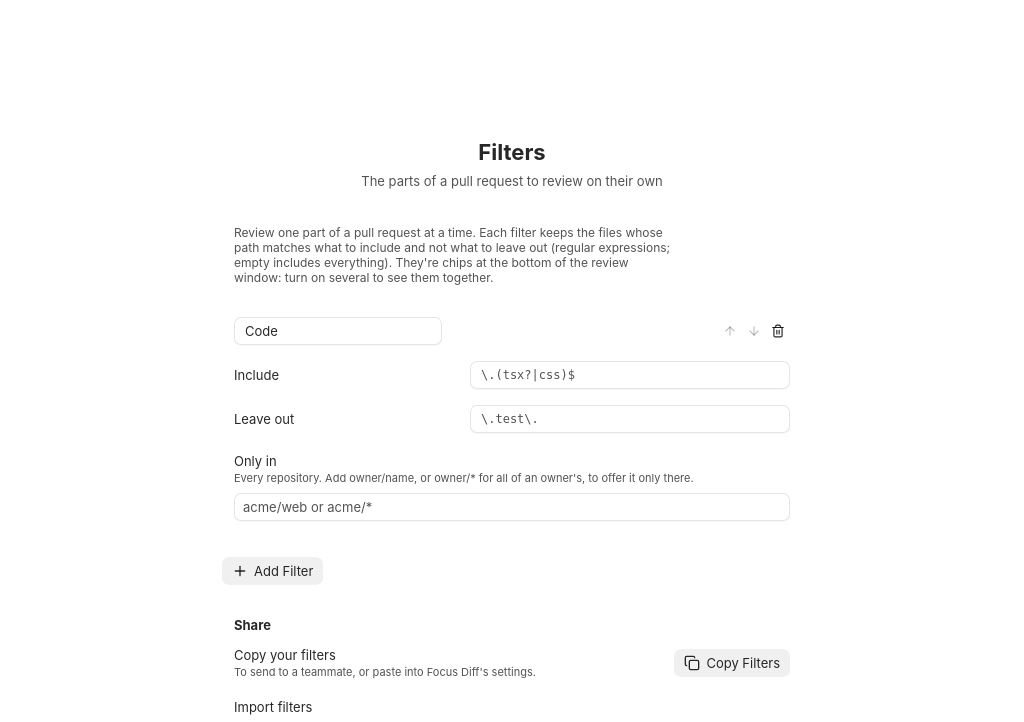
Sharing filters › says when the clipboard can't be reached
This screenshot has width=1024, height=722.
Click the button "Copy Filters": (732, 662) [674, 648, 790, 676]
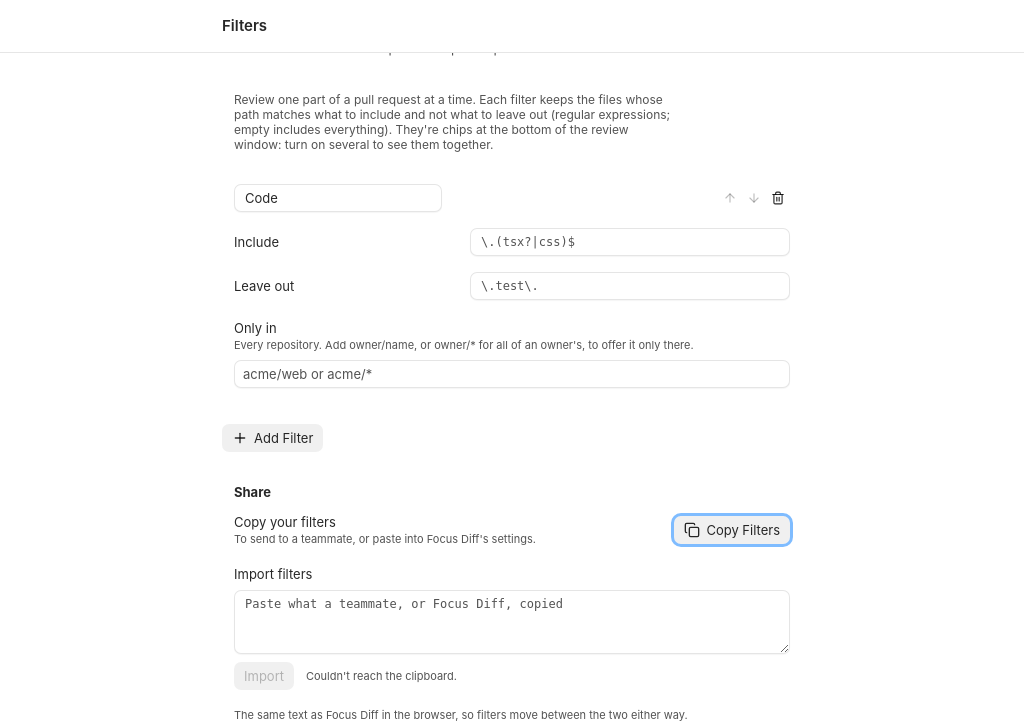
Result: the text "Couldn't reach the clipboard." is shown at [306, 668, 457, 682]
